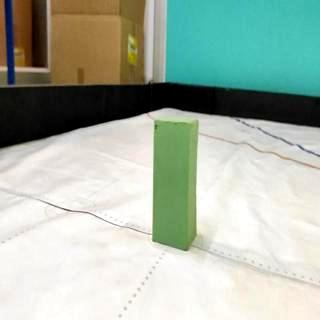greenbox: (152, 115, 200, 252)
